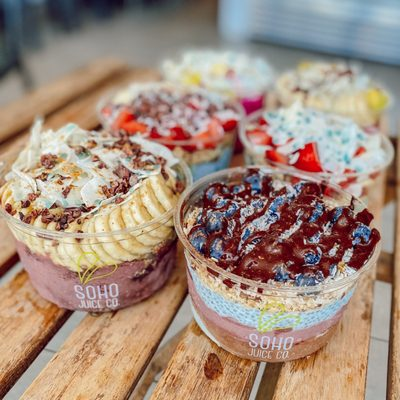pizza: (174, 165, 382, 363)
sushi: (173, 166, 383, 363), (0, 120, 186, 314)
